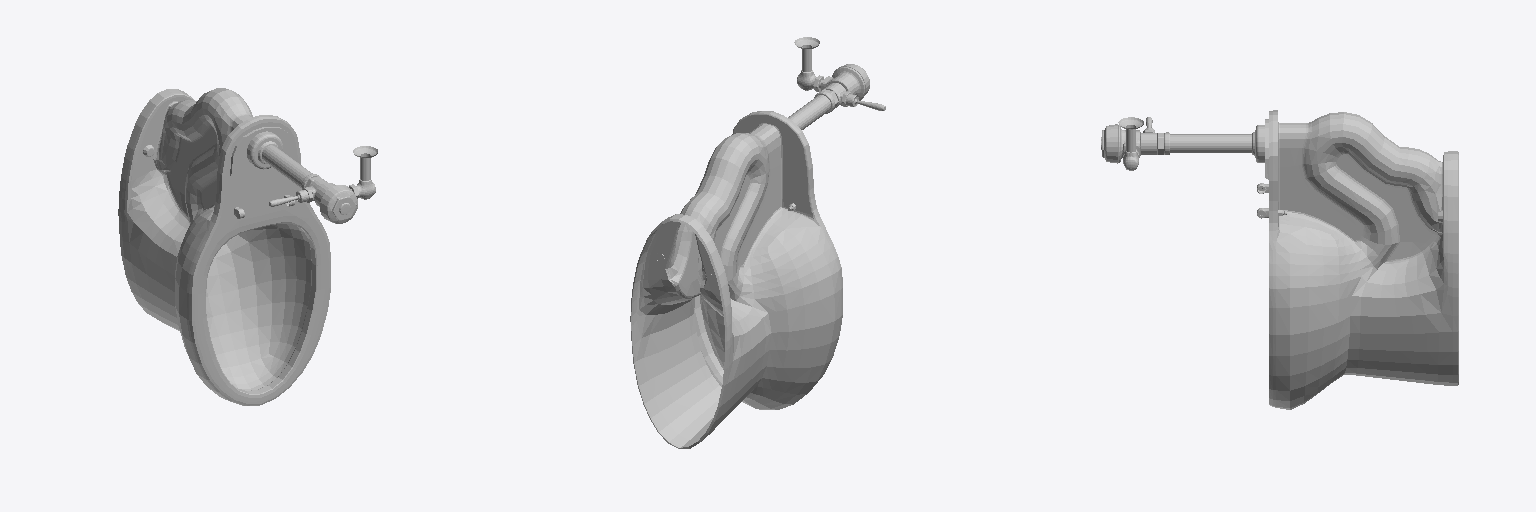
File: Toilet.obj
The picture shows the model from 3 angles: view 1: azimuth 30°, elevation 25°; view 2: azimuth 150°, elevation 25°; view 3: azimuth 270°, elevation 25°; orthographic projection.
Visible parts, largest first — view 1: toilet, flush; view 2: toilet, flush; view 3: toilet, flush.
Part boxes in pixels (left/top/right/bottom): toilet: left=118, top=88, right=330, bottom=405; flush: left=247, top=131, right=377, bottom=223; toilet: left=630, top=111, right=842, bottom=448; flush: left=788, top=37, right=885, bottom=129; toilet: left=1257, top=110, right=1458, bottom=409; flush: left=1101, top=117, right=1264, bottom=170.
Size of the model in its own units: 1.2 by 2.41 by 2.6.